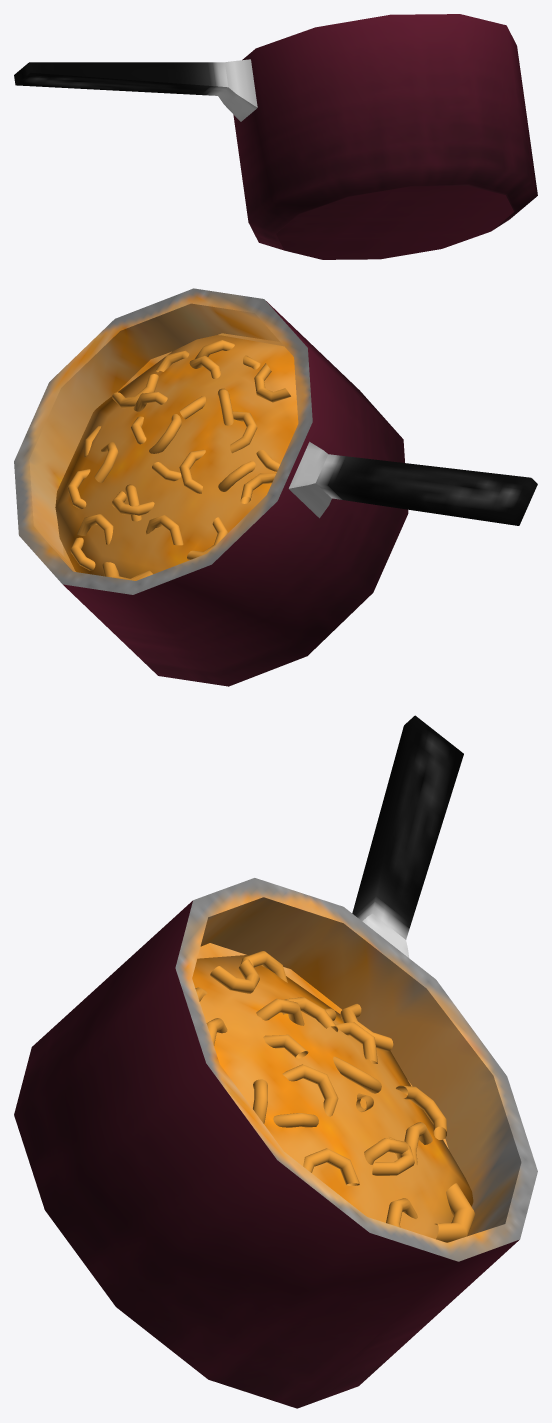
The model's file is H_Saucepan_maccheese.fbx.
3 renders of one model, top to bottom at view 1: azimuth 30°, elevation 25°; view 2: azimuth 150°, elevation 25°; view 3: azimuth 270°, elevation 25°, orthographic. The views are drawn at different scales.
Parts seen in each view (by area): view 1: SaucepanMC; view 2: SaucepanMC; view 3: SaucepanMC.
Boxes of the visible parts, left/top/right/bottom form: SaucepanMC: left=14, top=14, right=537, bottom=259; SaucepanMC: left=14, top=288, right=537, bottom=686; SaucepanMC: left=14, top=715, right=537, bottom=1408.
Size of the model in its own units: 59.81 by 36.44 by 37.85.
